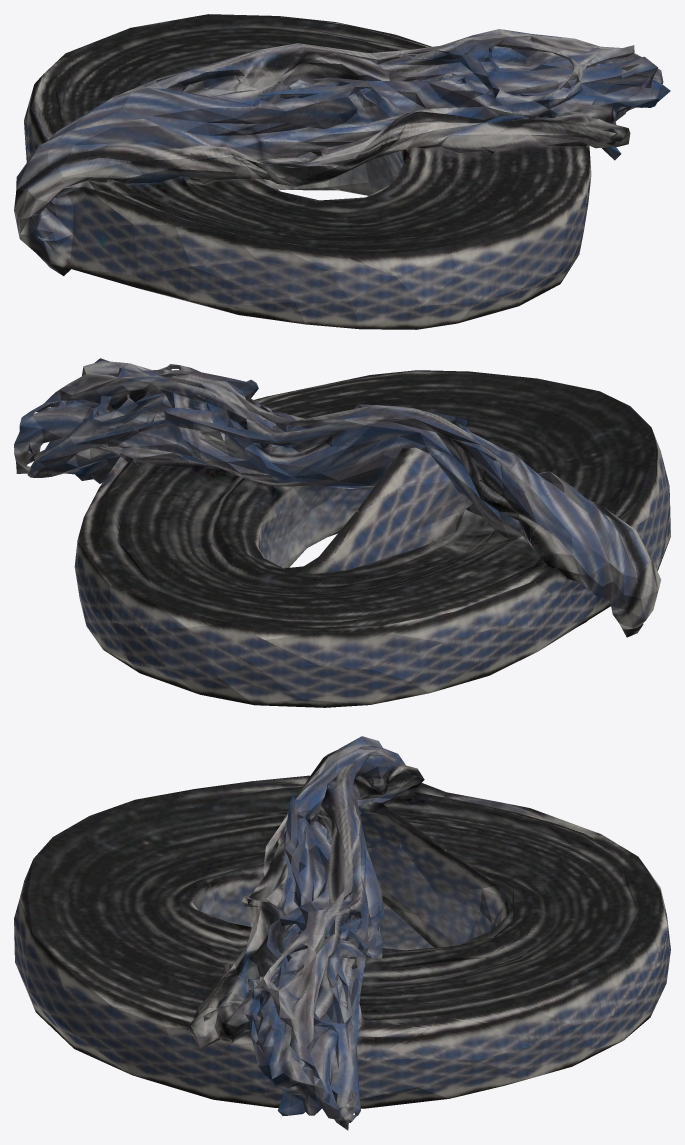
3 renders of one model, top to bottom at view 1: azimuth 30°, elevation 25°; view 2: azimuth 150°, elevation 25°; view 3: azimuth 270°, elevation 25°, orthographic. The views are drawn at different scales.
Parts seen in each view (by area): view 1: Borte_4k_1k; view 2: Borte_4k_1k; view 3: Borte_4k_1k.
Part boxes in pixels (x1,y1,x2,y2): Borte_4k_1k: (14, 14, 670, 329); Borte_4k_1k: (14, 358, 670, 707); Borte_4k_1k: (14, 736, 670, 1130).
Bounding box in the file's own units: 0.2092 × 0.0627 × 0.1853.
Materials: 1 (1 with a texture image).
